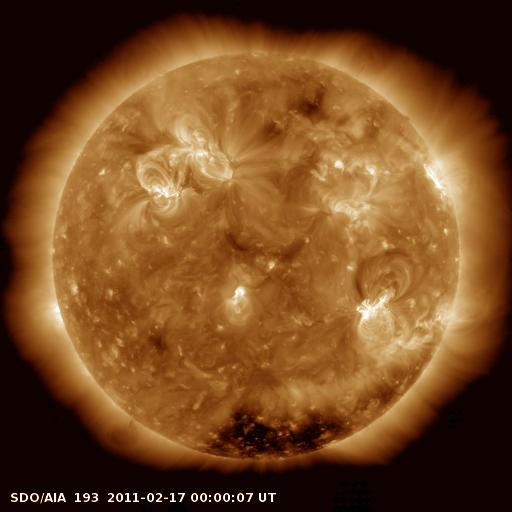coronal_hole: (185, 406, 348, 464)
